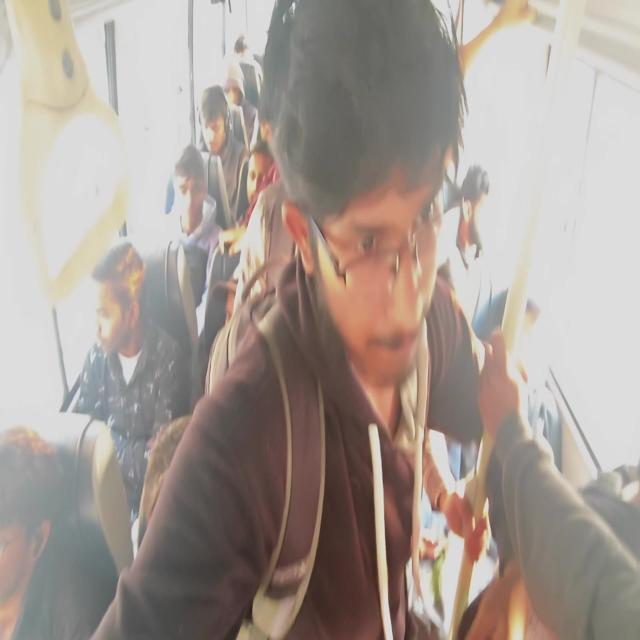person: (88, 0, 526, 638), (472, 325, 640, 638), (62, 240, 188, 534), (0, 426, 65, 638), (437, 162, 492, 340), (167, 143, 224, 305), (198, 84, 250, 222), (222, 58, 258, 150)
